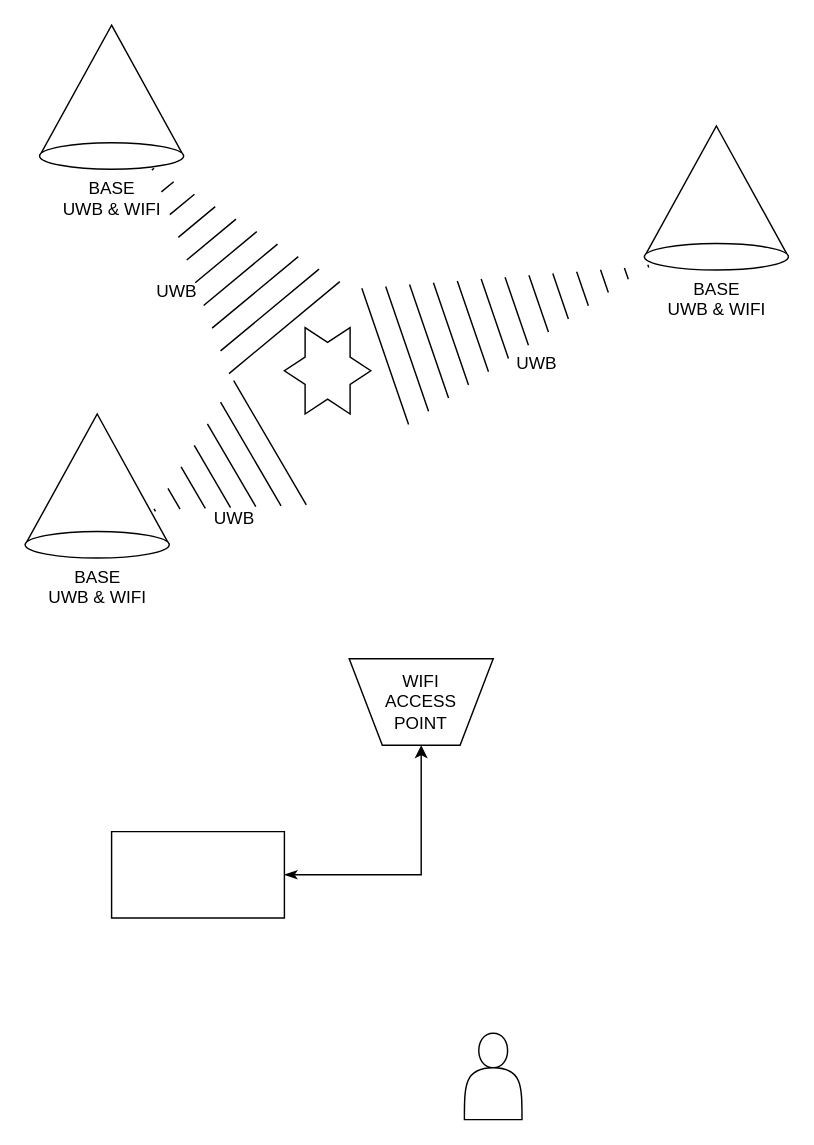
The diagram is 814 pixels wide and 1145 high, and some of its shapes have lost their labels. The box of each missing label's shape, as (x1, y1, x2, y2) in pixels:
DRONE UWB & WIFI: (283, 326, 371, 414)
SERVER: (110, 830, 284, 918)
